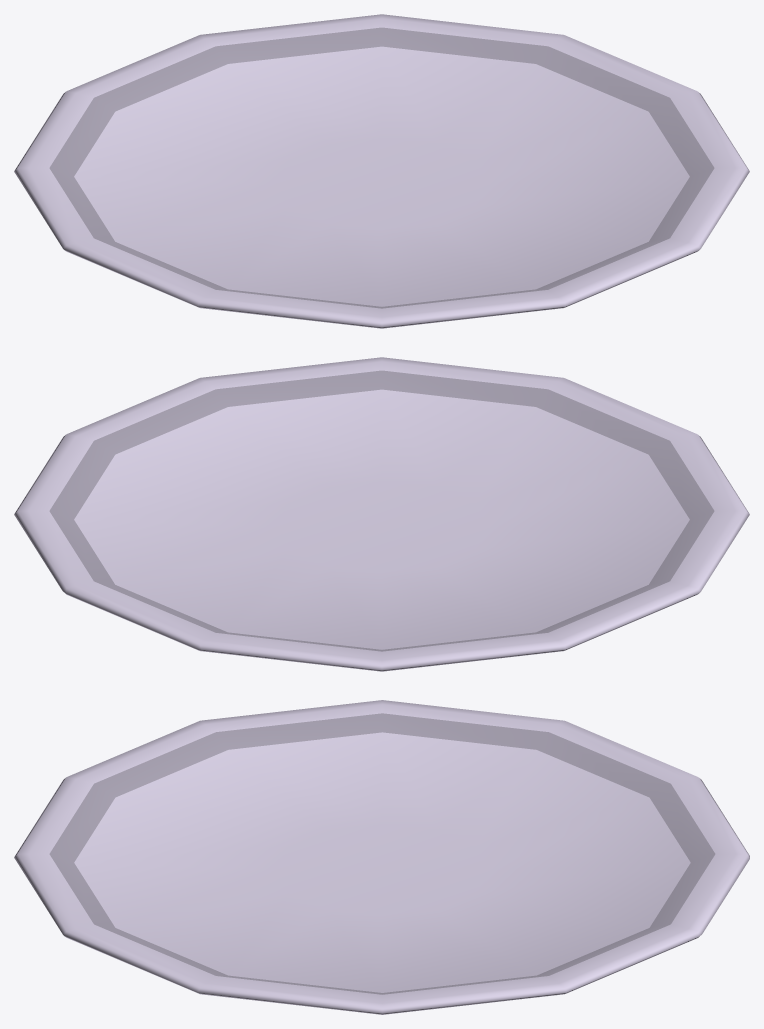
File: plate_round.fbx
3 views of the same model, one above another, from view 1: azimuth 30°, elevation 25°; view 2: azimuth 150°, elevation 25°; view 3: azimuth 270°, elevation 25° (orthographic).
Parts seen in each view (by area): view 1: plateRound; view 2: plateRound; view 3: plateRound.
Part boxes in pixels (box(x1,y1,x2,y2)): plateRound: box(14, 14, 749, 328); plateRound: box(14, 357, 749, 671); plateRound: box(14, 700, 749, 1014).
Bounding box in the file's own units: 200 × 7.83 × 200.
